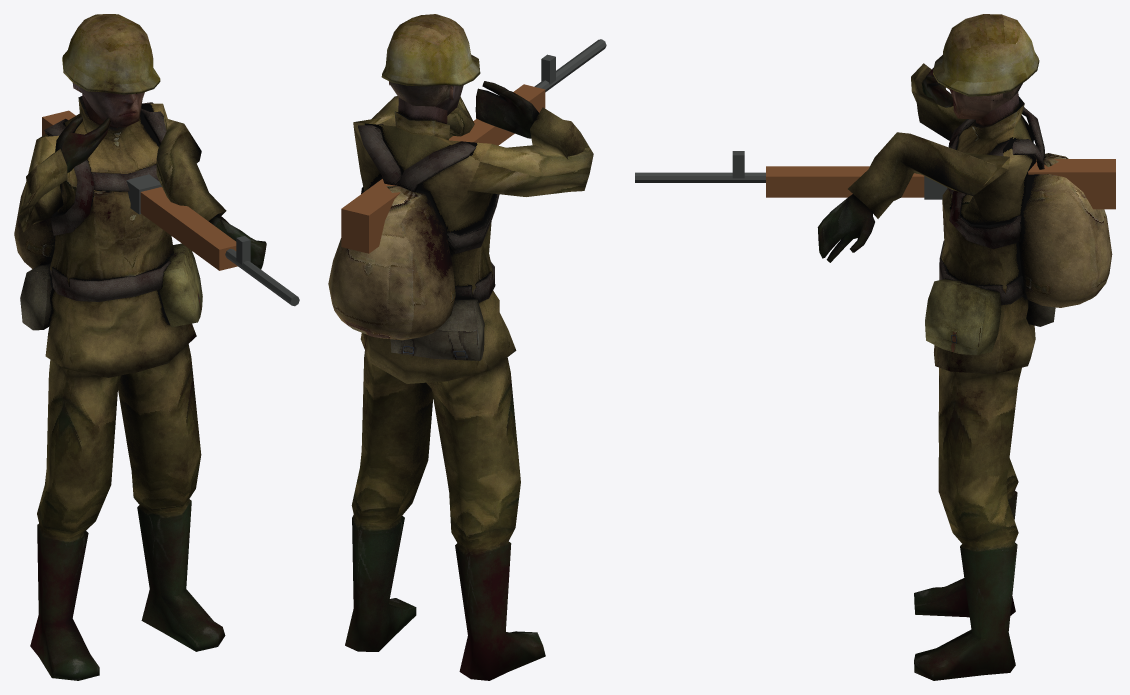
File: soviet_ww2_soldier_fire_02.glb
3 renders of one model, left to right at view 1: azimuth 30°, elevation 25°; view 2: azimuth 150°, elevation 25°; view 3: azimuth 270°, elevation 25°, orthographic. The views are drawn at different scales.
Parts seen in each view (by area): view 1: final_Static, SovietRifle_Generated; view 2: final_Static, SovietRifle_Generated; view 3: final_Static, SovietRifle_Generated.
Part boxes in pixels (x1,y1,x2,y2): final_Static: (14,14,266,680); SovietRifle_Generated: (42,110,299,306); final_Static: (328,14,593,680); SovietRifle_Generated: (341,39,606,253); final_Static: (817,14,1112,680); SovietRifle_Generated: (635,151,1115,209).
Size of the model in its own units: 0.6272 by 1.75 by 1.23.
Materials: 3 (1 with a texture image).
